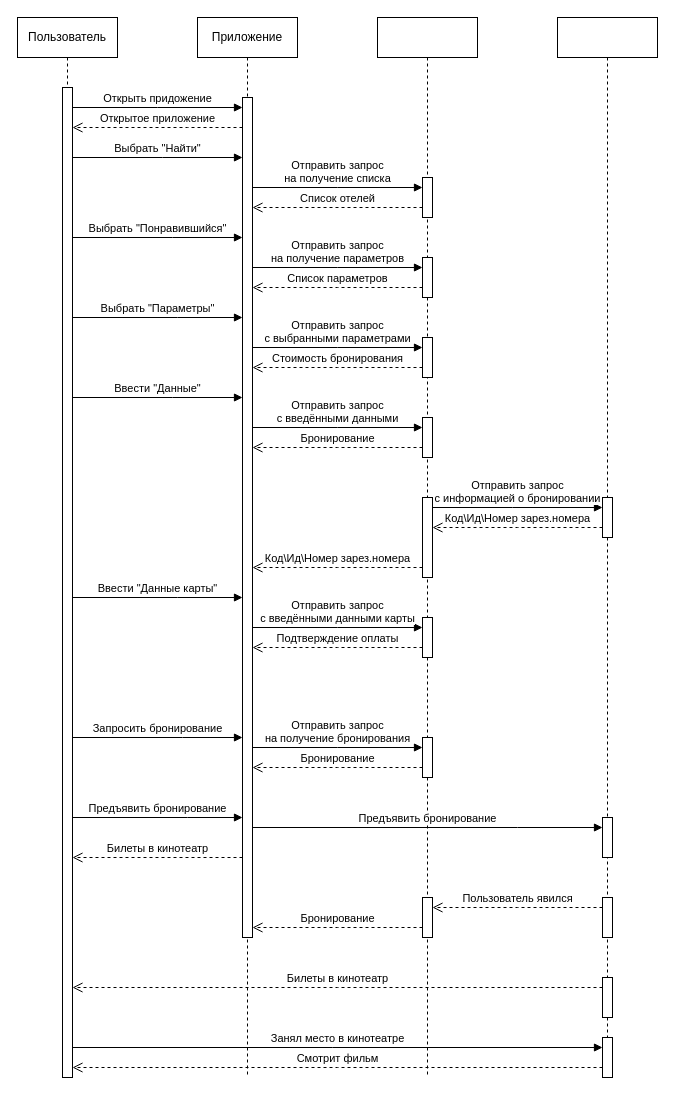
The diagram is 675 pixels wide and 1095 high, and some of its shapes have lost their labels. Each missing label, with the centre of its shape:
Backend: the point at 427,547
Кинотеатр: the point at 607,547
